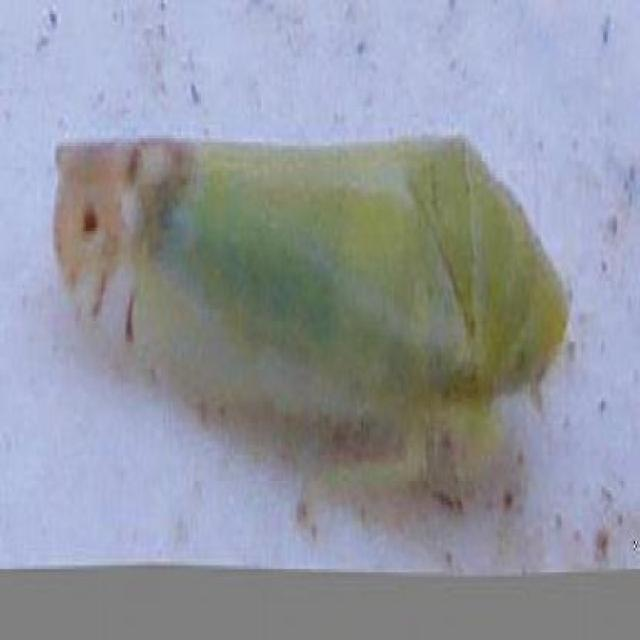green-leafhopper: (55, 128, 560, 450)
